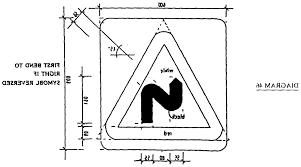Double_bend_right: (103, 29, 226, 141)
